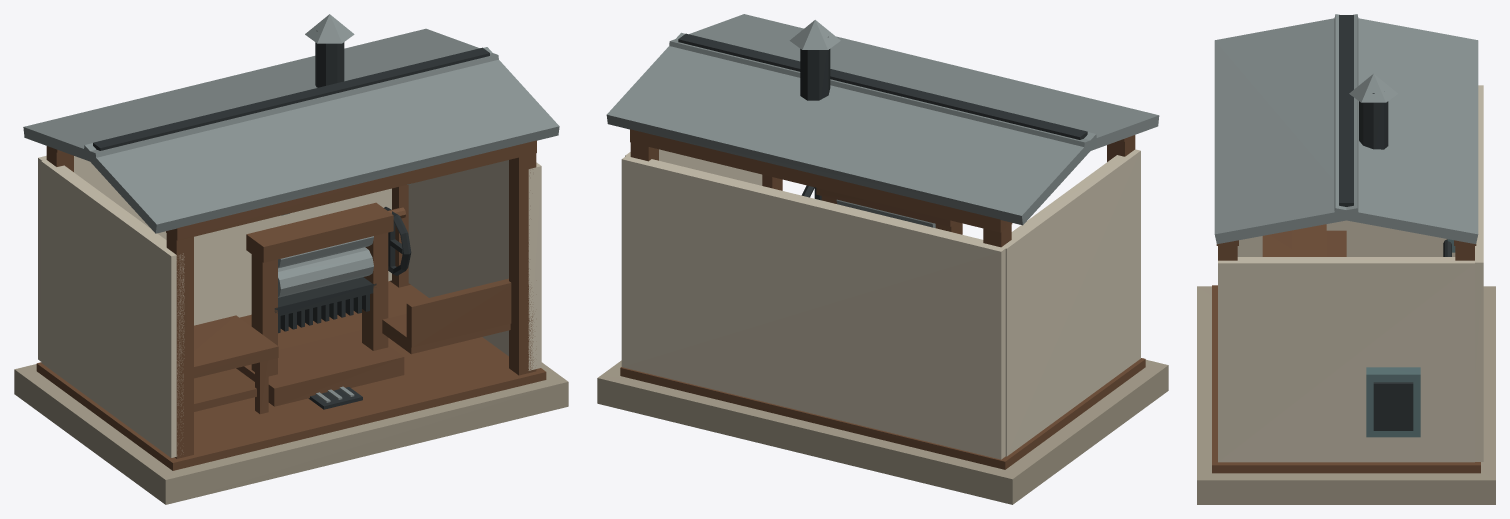
Rendered from Noodle-Workshop.glb.
The picture shows the model from 3 angles, left to right: view 1: azimuth 30°, elevation 25°; view 2: azimuth 150°, elevation 25°; view 3: azimuth 270°, elevation 25°; orthographic projection. The views are drawn at different scales.
Parts seen in each view (by area): view 1: noodle-workshop-static-noodle-workshop-warm-timber-mat, noodle-workshop-static-noodle-workshop-pale-galvanized-mat, noodle-workshop-static-noodle-workshop-cream-plaster-mat, noodle-workshop-static-noodle-workshop-warm-stone-mat, noodle-workshop-static-noodle-workshop-dark-iron-mat; view 2: noodle-workshop-static-noodle-workshop-cream-plaster-mat, noodle-workshop-static-noodle-workshop-pale-galvanized-mat, noodle-workshop-static-noodle-workshop-warm-stone-mat, noodle-workshop-static-noodle-workshop-warm-timber-mat, noodle-workshop-static-noodle-workshop-dark-iron-mat; view 3: noodle-workshop-static-noodle-workshop-cream-plaster-mat, noodle-workshop-static-noodle-workshop-pale-galvanized-mat, noodle-workshop-static-noodle-workshop-warm-stone-mat, noodle-workshop-static-noodle-workshop-warm-timber-mat, noodle-workshop-static-noodle-workshop-dark-iron-mat, noodle-workshop-static-noodle-workshop-muted-teal-fixture-ma.
Part boxes in pixels (bbox=[...]): noodle-workshop-static-noodle-workshop-warm-timber-mat: bbox=[36, 140, 546, 470]; noodle-workshop-static-noodle-workshop-pale-galvanized-mat: bbox=[23, 14, 559, 402]; noodle-workshop-static-noodle-workshop-cream-plaster-mat: bbox=[38, 155, 541, 457]; noodle-workshop-static-noodle-workshop-warm-stone-mat: bbox=[14, 362, 568, 504]; noodle-workshop-static-noodle-workshop-dark-iron-mat: bbox=[93, 30, 489, 409]; noodle-workshop-static-noodle-workshop-cream-plaster-mat: bbox=[621, 149, 1140, 459]; noodle-workshop-static-noodle-workshop-pale-galvanized-mat: bbox=[606, 14, 1159, 227]; noodle-workshop-static-noodle-workshop-warm-stone-mat: bbox=[597, 359, 1168, 504]; noodle-workshop-static-noodle-workshop-warm-timber-mat: bbox=[620, 129, 1145, 469]; noodle-workshop-static-noodle-workshop-dark-iron-mat: bbox=[678, 33, 1087, 200]; noodle-workshop-static-noodle-workshop-cream-plaster-mat: bbox=[1218, 85, 1483, 462]; noodle-workshop-static-noodle-workshop-pale-galvanized-mat: bbox=[1214, 14, 1478, 244]; noodle-workshop-static-noodle-workshop-warm-stone-mat: bbox=[1197, 286, 1495, 504]; noodle-workshop-static-noodle-workshop-warm-timber-mat: bbox=[1212, 224, 1480, 473]; noodle-workshop-static-noodle-workshop-dark-iron-mat: bbox=[1339, 15, 1451, 430]; noodle-workshop-static-noodle-workshop-muted-teal-fixture-ma: bbox=[1366, 239, 1455, 437].
Size of the model in its own units: 3.74 by 3.21 by 2.42.
